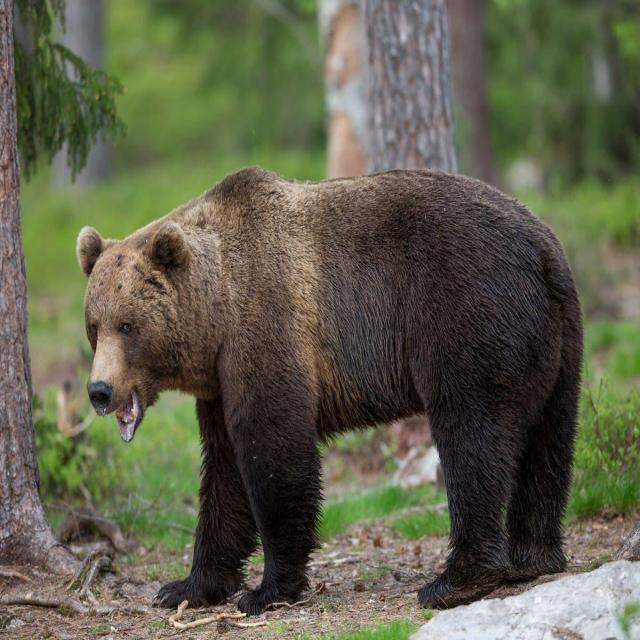Bear: (76, 168, 585, 616)
